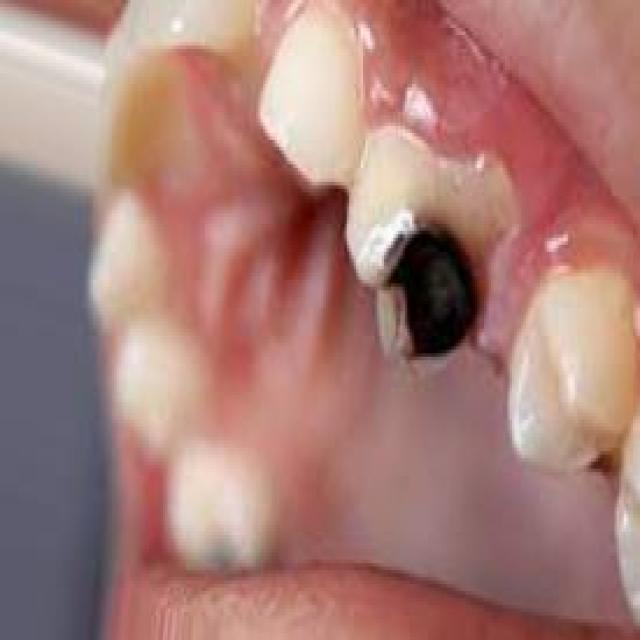caries: (345, 130, 522, 382)
